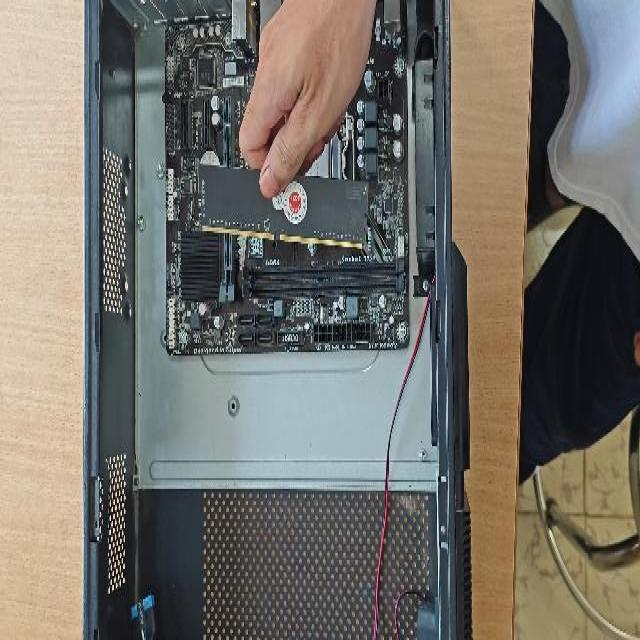Mainboard: (160, 19, 409, 358)
RAM: (194, 160, 368, 254)
